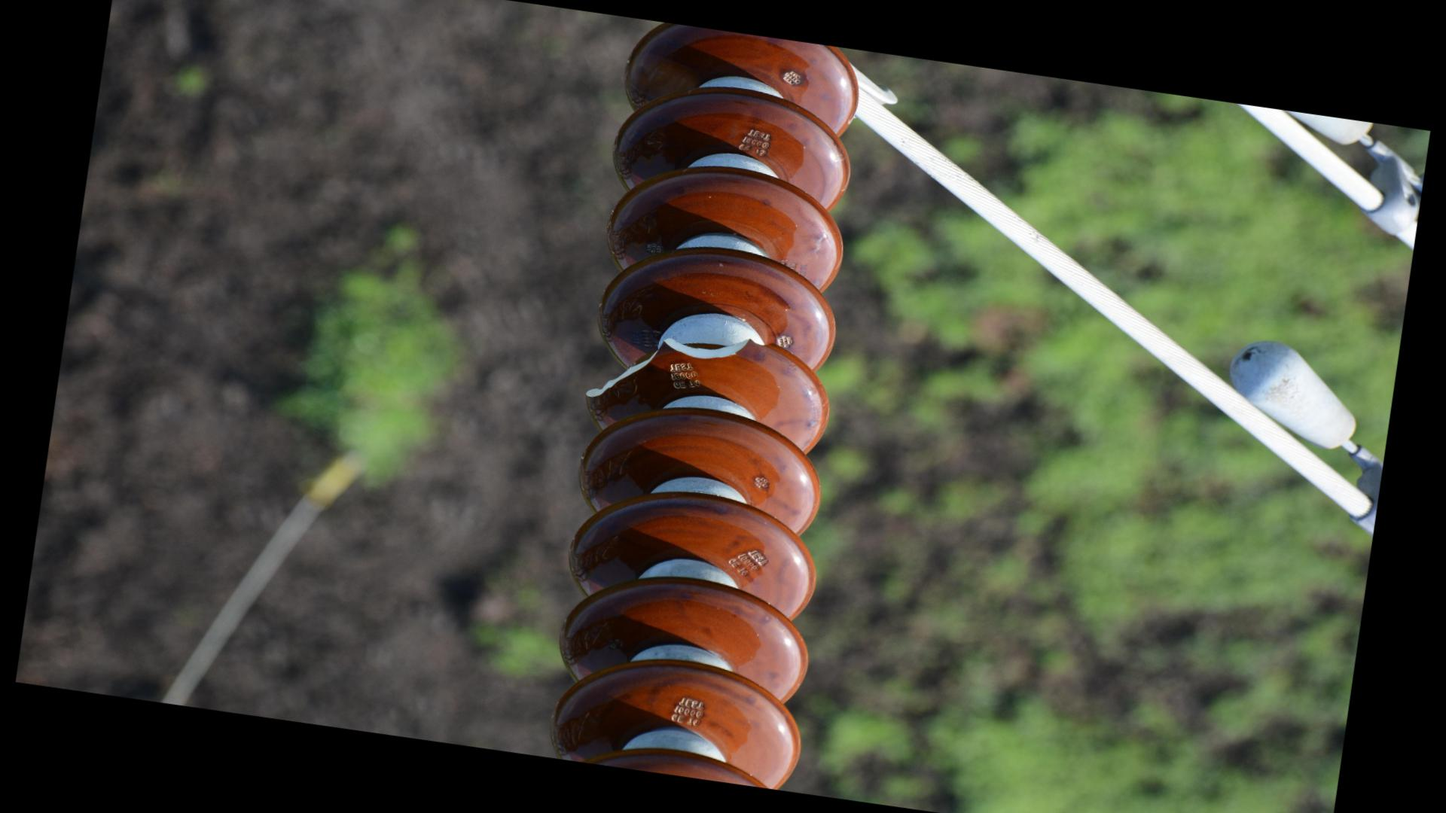damper: (1200, 325, 1399, 544)
